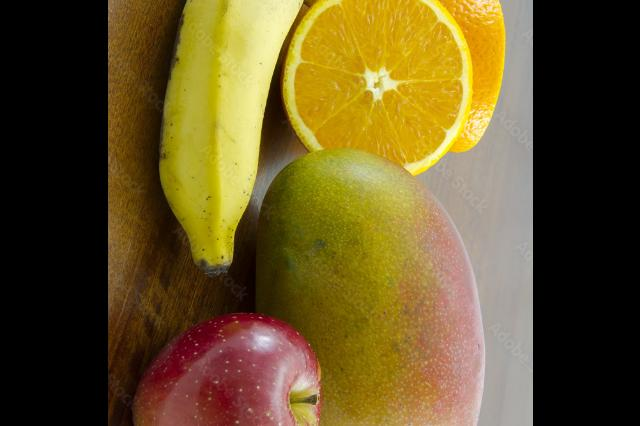Apples: (134, 313, 320, 426)
